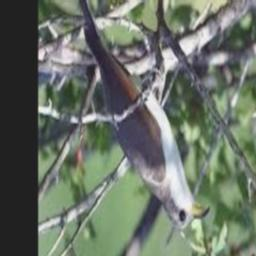Cuckoo: (60, 0, 210, 229)
